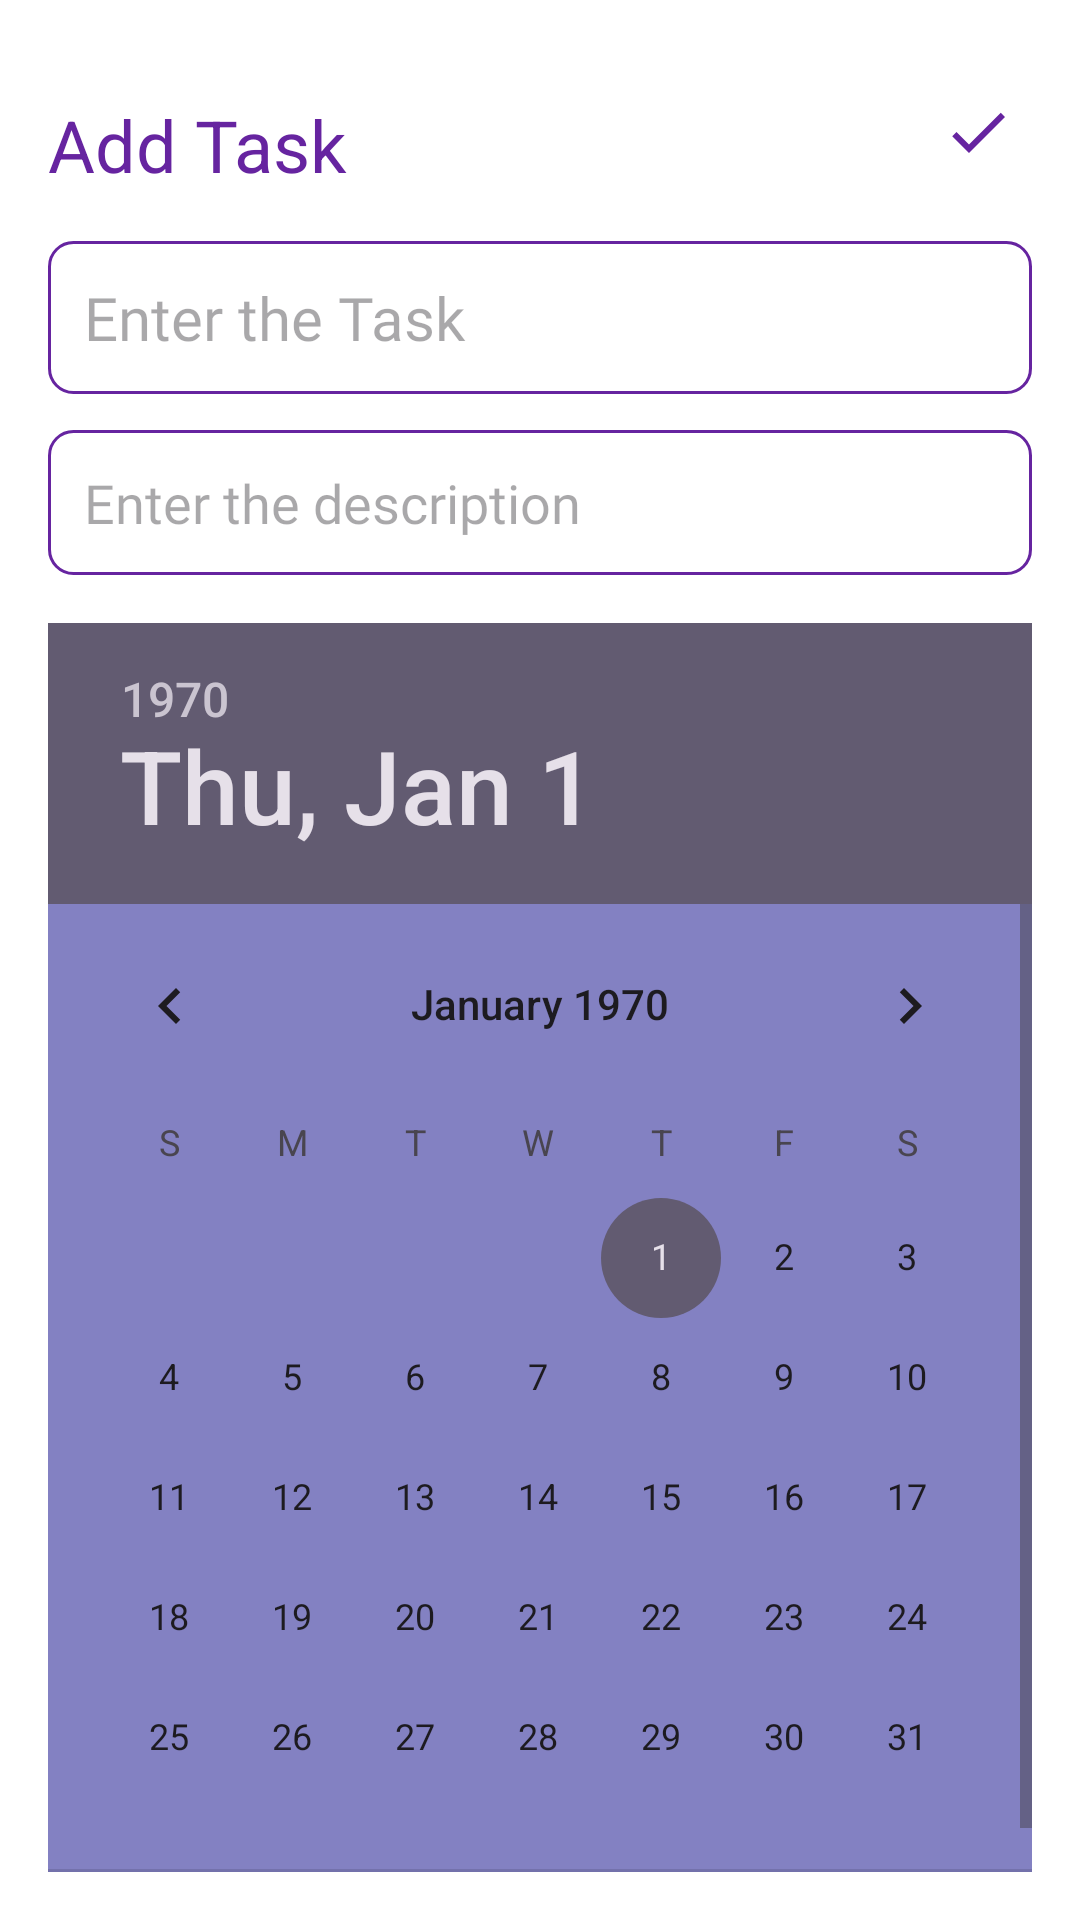

Named icons in this screenshot (1080*1920) and their bounding boxes, (x1, y1, x2, y2):
done: (952, 113, 1005, 153)
